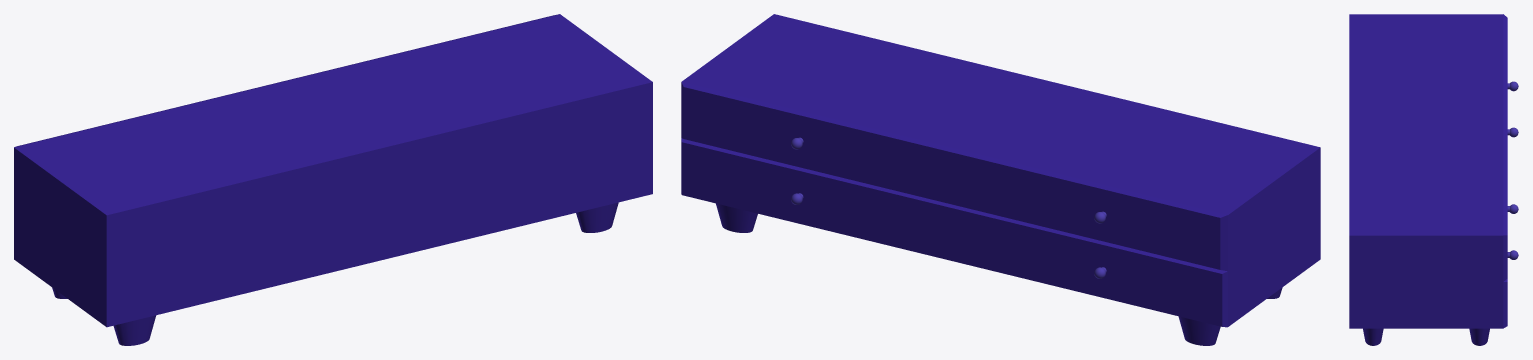
The model's file is Lowboard.fbx.
3 views of the same model, side by side, from view 1: azimuth 30°, elevation 25°; view 2: azimuth 150°, elevation 25°; view 3: azimuth 270°, elevation 25° (orthographic). The views are drawn at different scales.
Visible parts, largest first — view 1: pCylinder5; view 2: pCylinder5; view 3: pCylinder5.
Part boxes in pixels (<box>): pCylinder5: <box>14,14,652,345</box>; pCylinder5: <box>681,14,1320,345</box>; pCylinder5: <box>1349,14,1507,345</box>.
Bounding box in the file's own units: 7.21 × 1.85 × 2.33.
